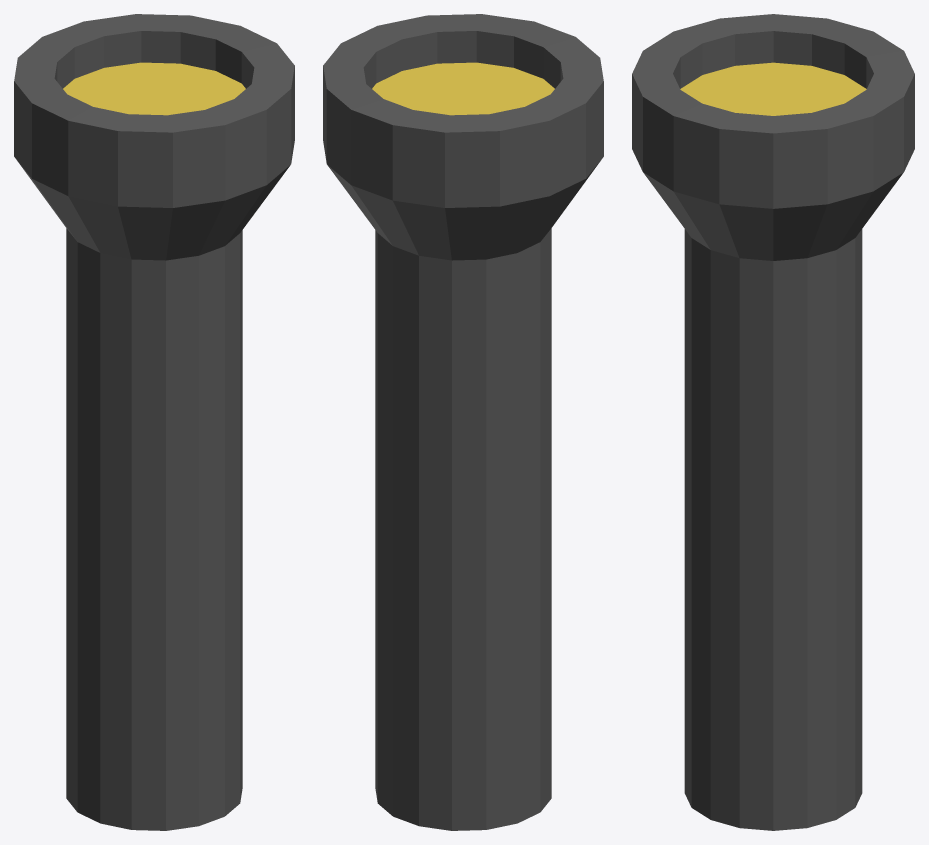
Rendered from FlashLight.fbx.
3 views of the same model, side by side, from view 1: azimuth 30°, elevation 25°; view 2: azimuth 150°, elevation 25°; view 3: azimuth 270°, elevation 25° (orthographic).
Parts seen in each view (by area): view 1: Cylinder.002; view 2: Cylinder.002; view 3: Cylinder.002.
Part boxes in pixels (bbox=[...]): Cylinder.002: bbox=[14, 14, 294, 830]; Cylinder.002: bbox=[323, 14, 603, 830]; Cylinder.002: bbox=[632, 14, 914, 830].
Bounding box in the file's own units: 389 × 1093 × 389.
